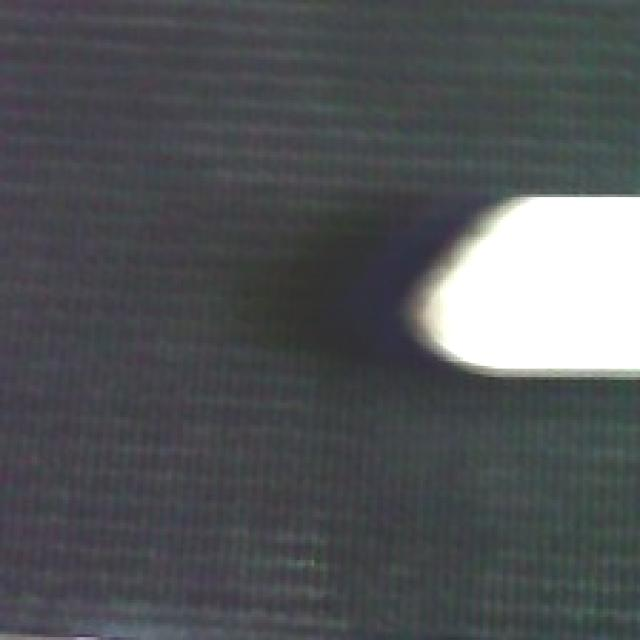defected: (400, 183, 640, 386)
